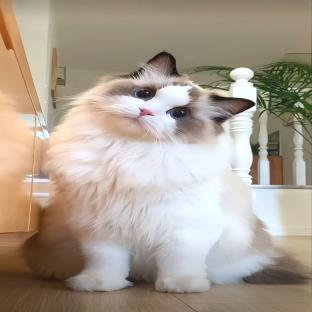Animal: (22, 52, 308, 293)
